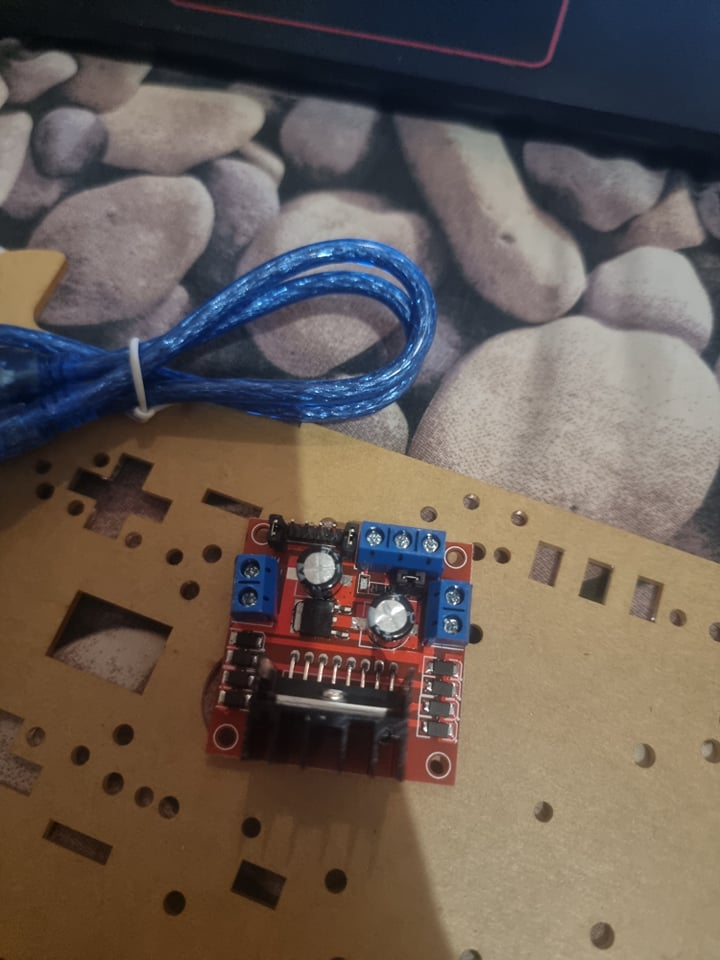MOTOR: (206, 510, 475, 787)
